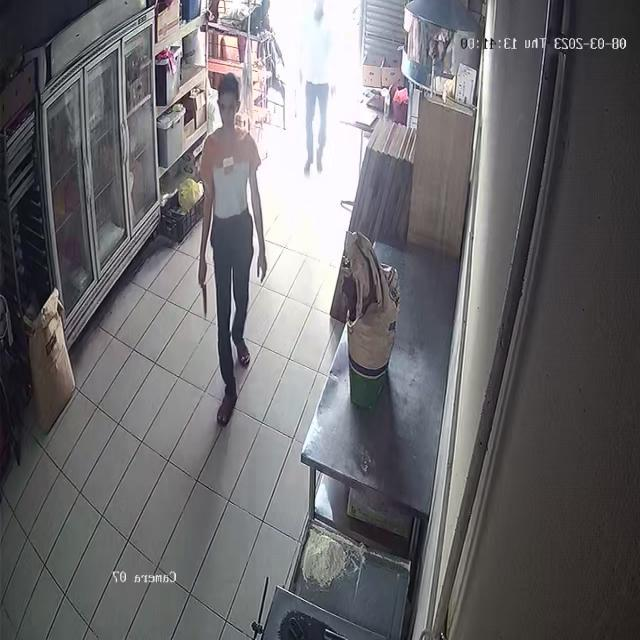Knife: (186, 271, 222, 326)
